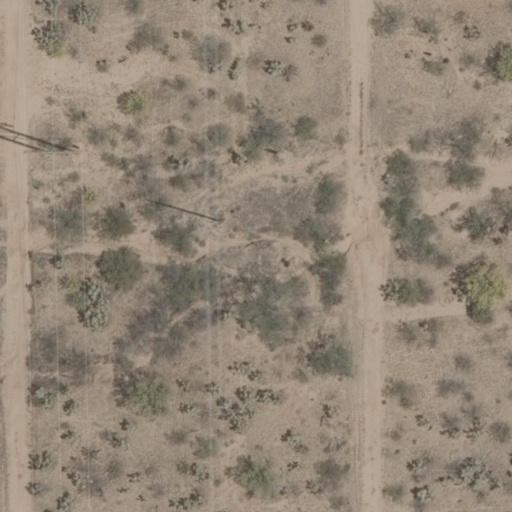DT: (19, 135, 89, 163), (202, 209, 238, 232)
